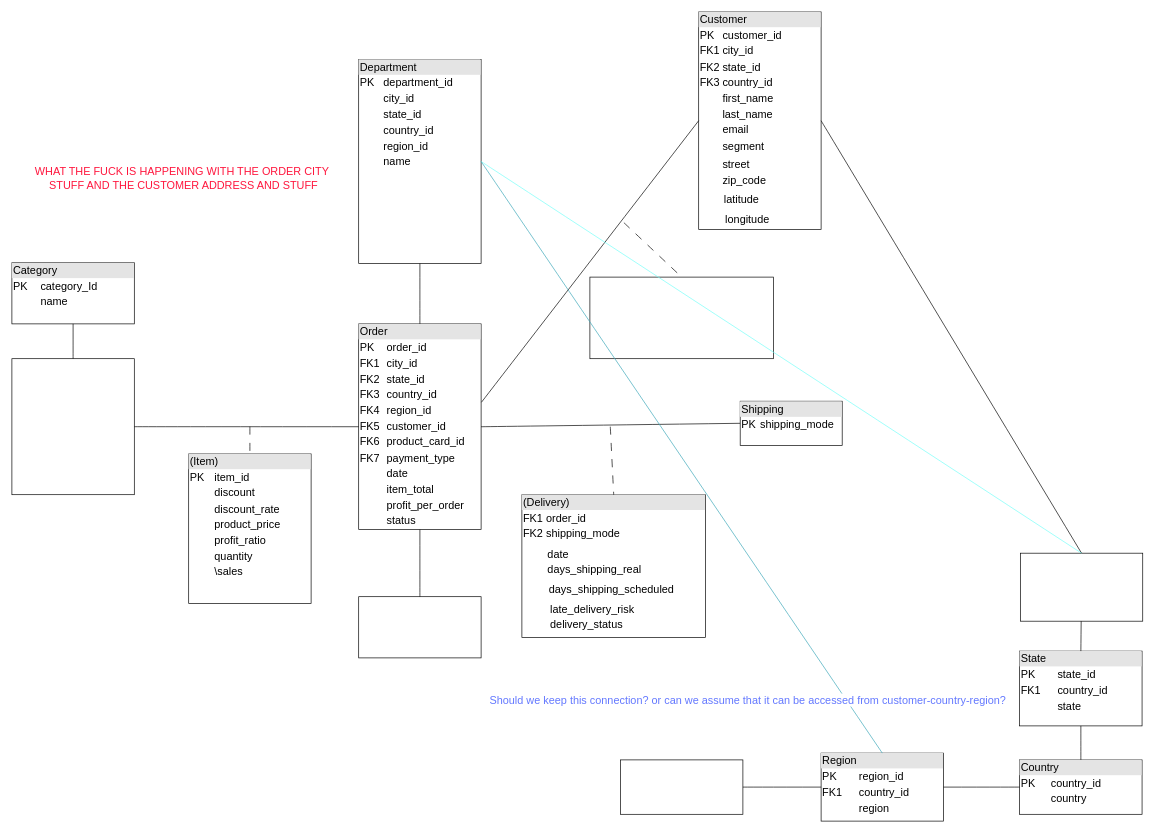
Some shapes in this 1155 by 833 pixel diagram are drawn without their labels. The shapes that lost their labels are listed below. From the top down, each one's centre as x and y in pixels, then its label:
(x=681, y=317): FK1 order_id FK2 customer_id sales_per_customer
(x=72, y=426): Product PK card_id FK1 category_id description image name price status
(x=1081, y=586): City PK city_id FK1 state_id city
(x=419, y=627): Payment PK id type
(x=681, y=786): Market PK market
